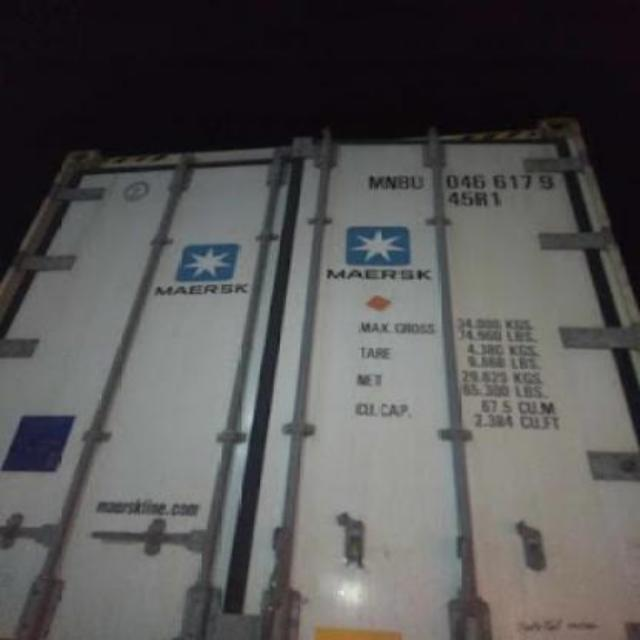0: (448, 175, 458, 188)
1: (508, 172, 520, 190)
4: (462, 176, 472, 188)
6: (492, 173, 508, 190), (472, 174, 486, 190)
7: (522, 174, 534, 190)
9: (538, 174, 556, 190)
B: (397, 175, 411, 191)
M: (366, 174, 386, 192)
N: (386, 175, 398, 191)
U: (412, 174, 424, 190)
